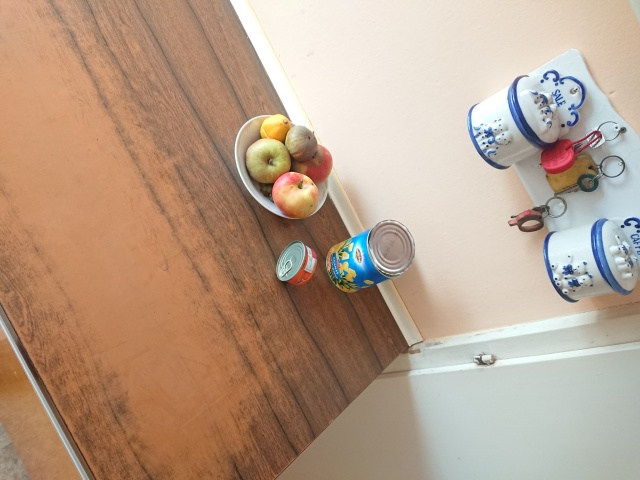Gavrilovic Pork Liver Pate 100g: (273, 238, 319, 287)
